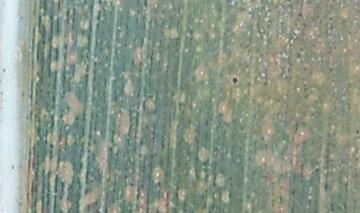tarspot: (231, 75, 240, 84)
